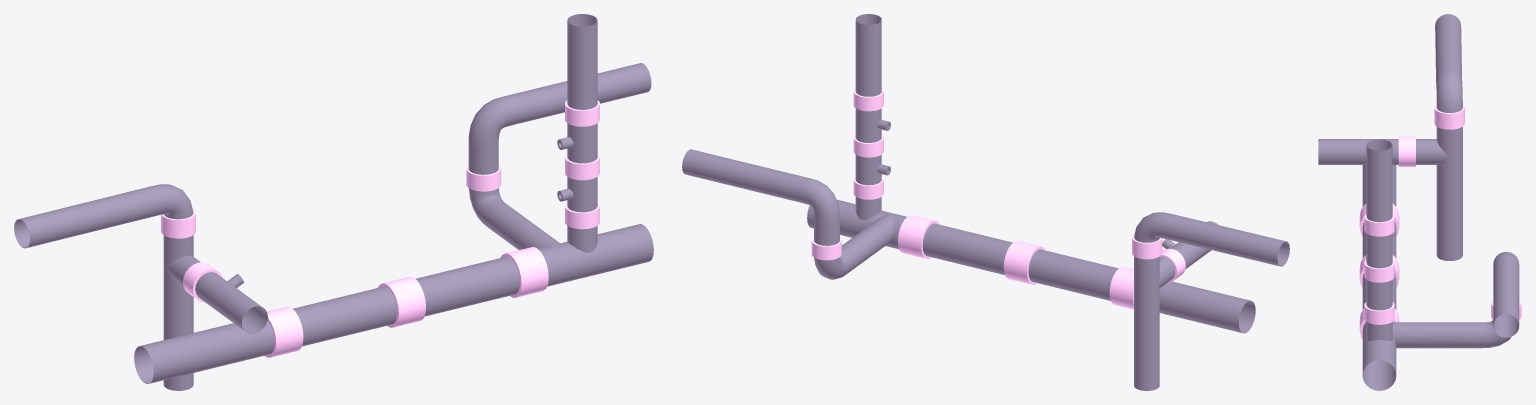
Rendered from environmentForegroundBlockout.fbx.
The picture shows the model from 3 angles, left to right: view 1: azimuth 30°, elevation 25°; view 2: azimuth 150°, elevation 25°; view 3: azimuth 270°, elevation 25°; orthographic projection. The views are drawn at different scales.
Visible parts, largest first — view 1: groundPipe, leftPipe, rightPipe2, rightPipe1; view 2: groundPipe, leftPipe, rightPipe2, rightPipe1; view 3: leftPipe, rightPipe1, rightPipe2, groundPipe.
Part boxes in pixels (x1=…): groundPipe: x1=134, y1=224, x2=653, y2=383; leftPipe: x1=14, y1=184, x2=267, y2=390; rightPipe2: x1=466, y1=63, x2=651, y2=249; rightPipe1: x1=557, y1=14, x2=599, y2=252; groundPipe: x1=807, y1=199, x2=1255, y2=333; leftPipe: x1=1132, y1=212, x2=1289, y2=390; rightPipe2: x1=682, y1=149, x2=893, y2=279; rightPipe1: x1=853, y1=14, x2=890, y2=219; leftPipe: x1=1318, y1=14, x2=1464, y2=260; rightPipe1: x1=1364, y1=139, x2=1394, y2=341; rightPipe2: x1=1392, y1=251, x2=1521, y2=348; groundPipe: x1=1359, y1=165, x2=1399, y2=390.
Size of the model in its own units: 89.95 by 40.04 by 28.02.
